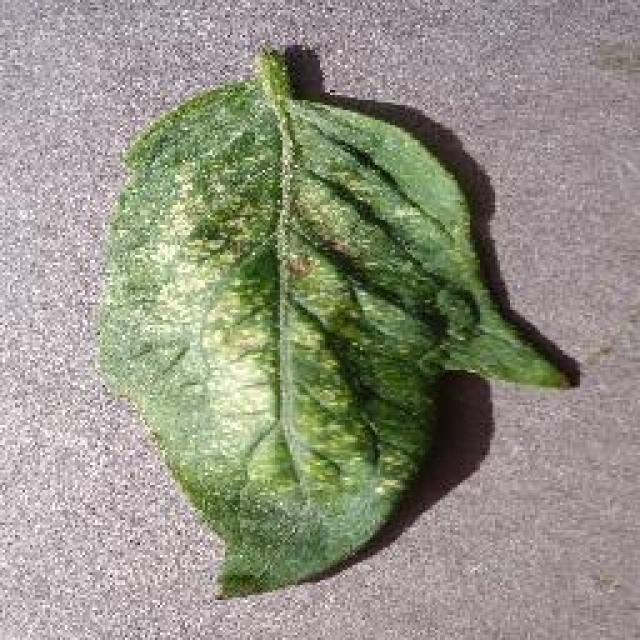Tomato___Spider_mites Two-spotted_spider_mite: (100, 50, 565, 595)
